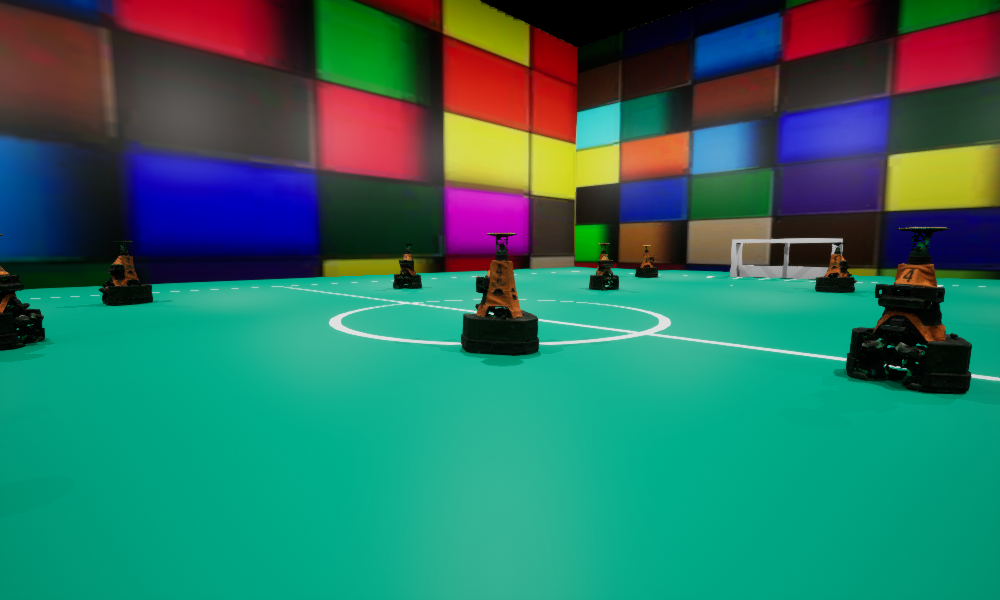0 orange robot TechUnited: (846, 227, 971, 392), (461, 233, 538, 355), (0, 234, 44, 350), (98, 241, 152, 304), (815, 243, 856, 292), (589, 243, 618, 290), (393, 244, 421, 288), (635, 245, 657, 277)
